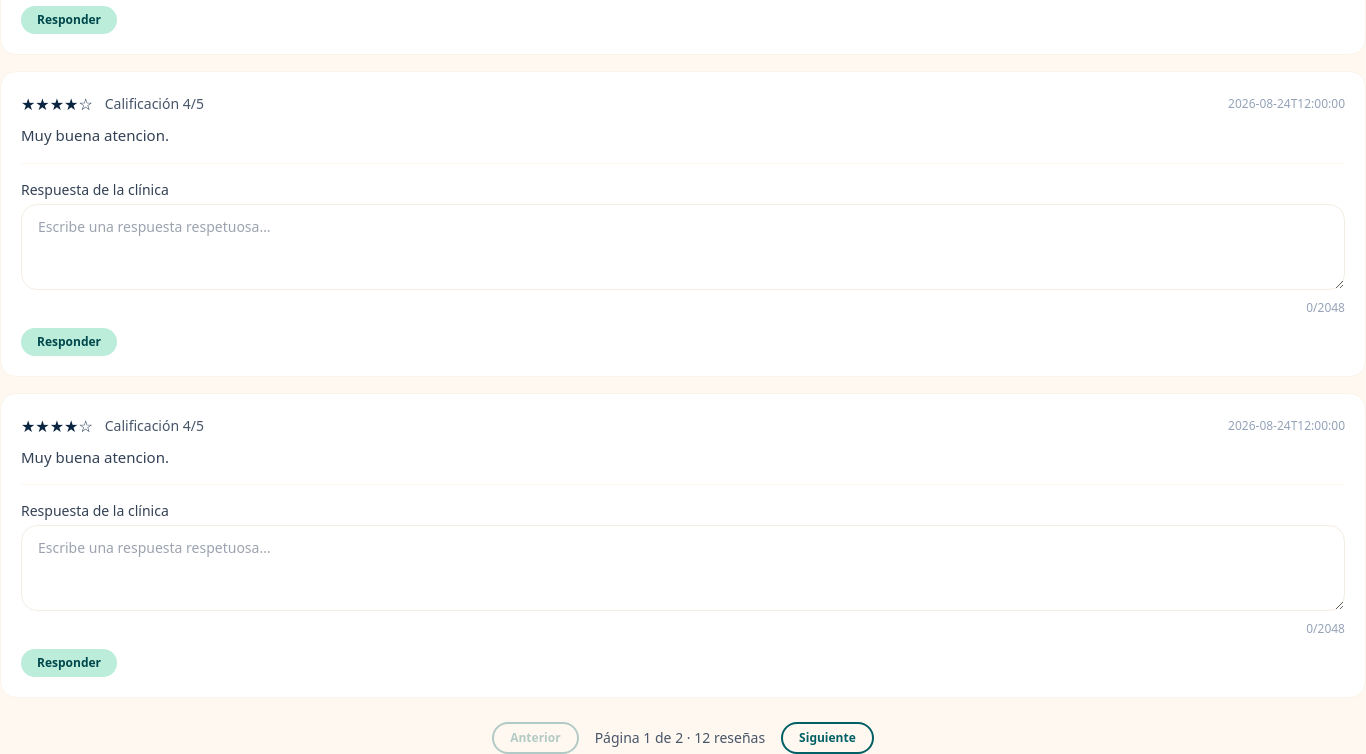
Scenario: ReviewStaffList › paginates across pages
(page scrolled)
expect the text "Página 1 de 2 · 12 reseñas" is shown: met, box x1=595 y1=728 x2=765 y2=748
Click the button "Siguiente" at coordinates (827, 738), box x1=781 y1=722 x2=874 y2=753
(page scrolled)
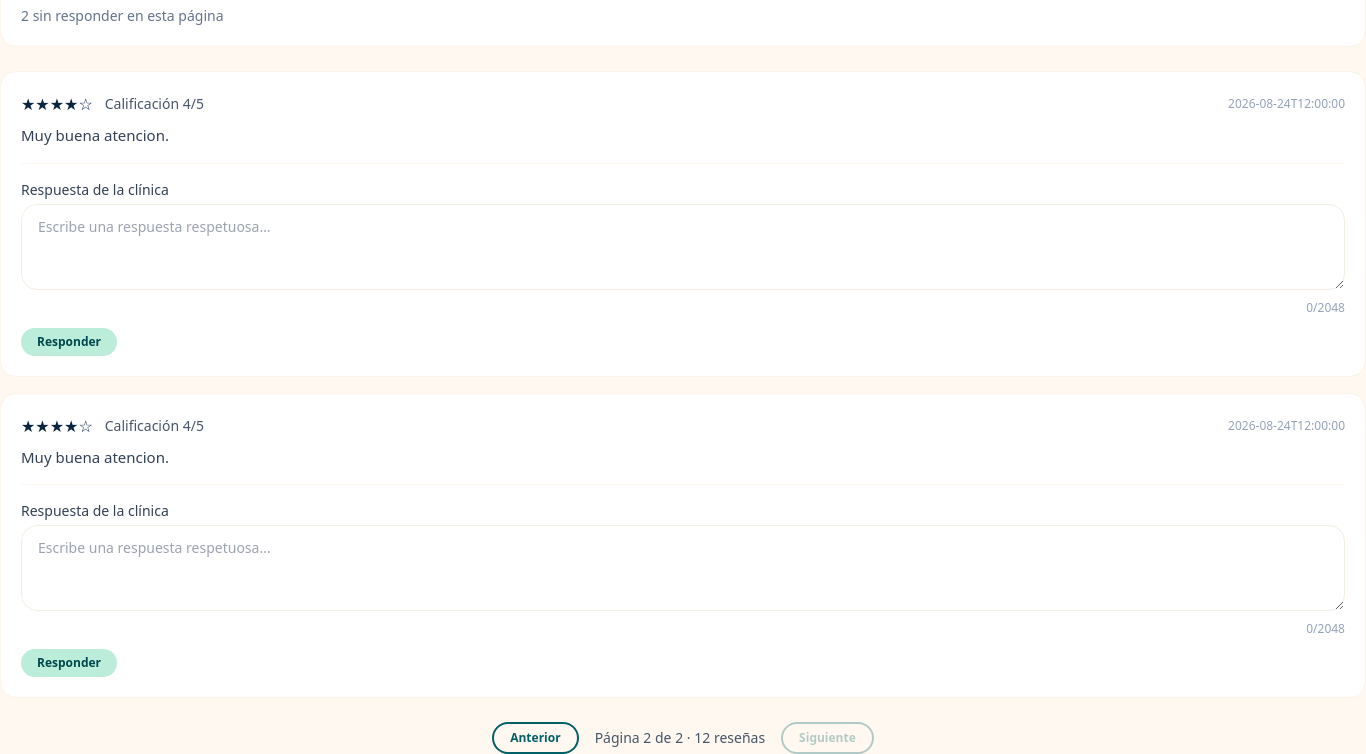
expect the text "Página 2 de 2 · 12 reseñas" is shown: met, box x1=595 y1=728 x2=765 y2=748
expect the button "Siguiente" is disabled: met, box x1=781 y1=722 x2=874 y2=753
